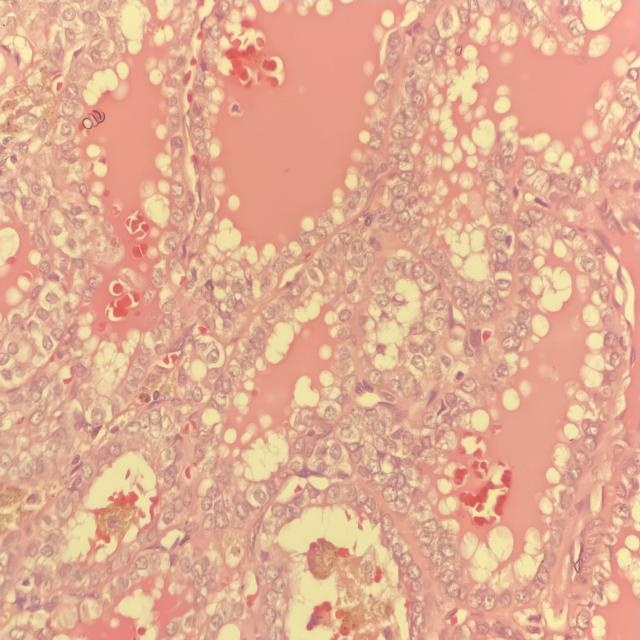TC: (310, 398, 346, 426), (184, 375, 212, 409), (244, 478, 273, 510), (394, 371, 420, 401), (322, 437, 350, 464), (120, 416, 147, 444), (201, 343, 228, 370), (148, 402, 171, 432), (422, 309, 446, 336), (364, 366, 388, 392), (501, 331, 527, 355), (331, 341, 360, 362), (457, 286, 480, 312), (285, 276, 306, 304), (410, 254, 430, 283), (420, 406, 443, 431), (338, 276, 365, 297), (382, 481, 404, 506), (456, 373, 477, 399), (494, 358, 514, 385), (193, 490, 217, 512), (81, 457, 99, 486), (405, 351, 431, 371), (157, 507, 179, 530), (330, 304, 352, 327), (215, 375, 235, 400), (256, 305, 279, 324), (223, 290, 240, 315), (375, 291, 393, 312)
